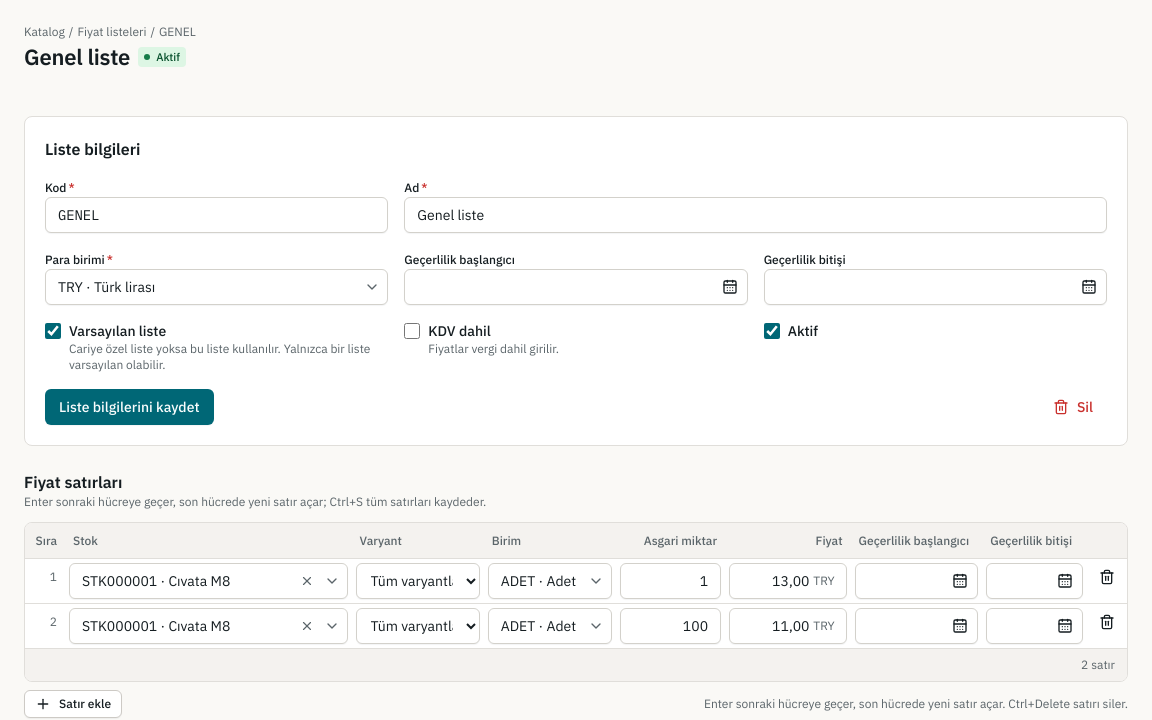
Test: price lists › keeps unsaved edits when the lines change elsewhere and offers an explicit reload
Replace the text in the field named "Fiyat, 1. satır" with "14": x=788, y=581 [729,563,846,599]
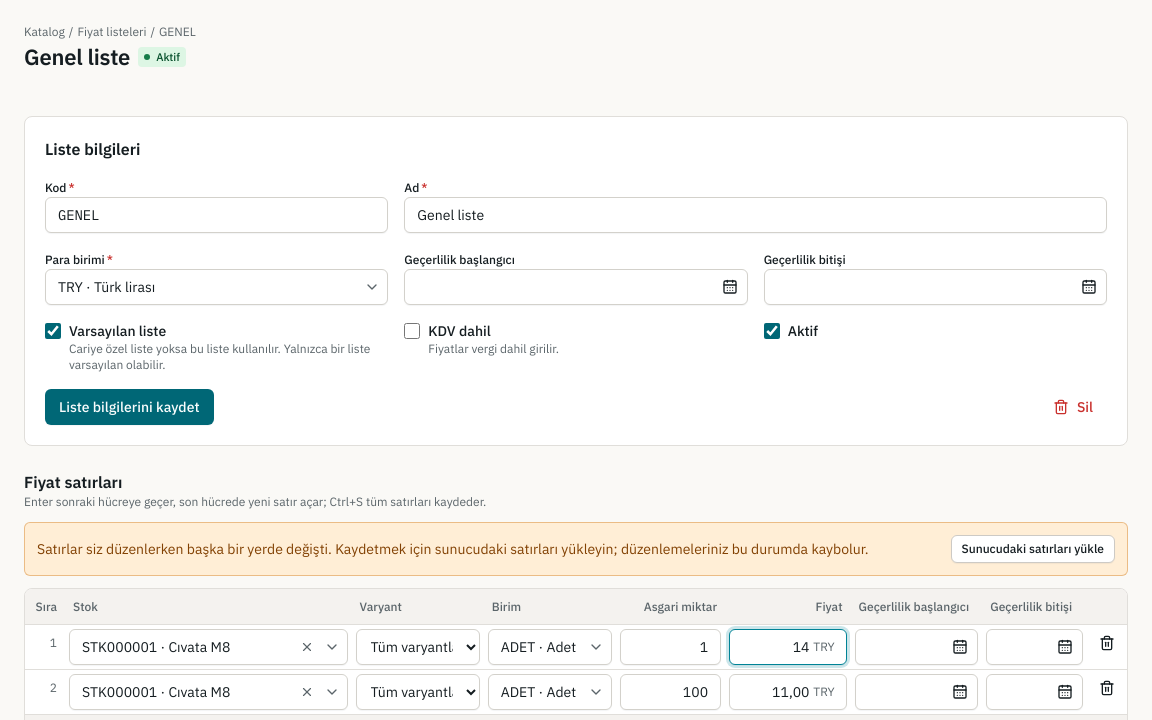
Check: the text "Satırlar siz düzenlerken başka bir yerde değişti" is shown, box [37,540,869,558]
Click the button "Sunucudaki satırları yükle": x=1033, y=549 [950,535,1115,563]
(page scrolled)
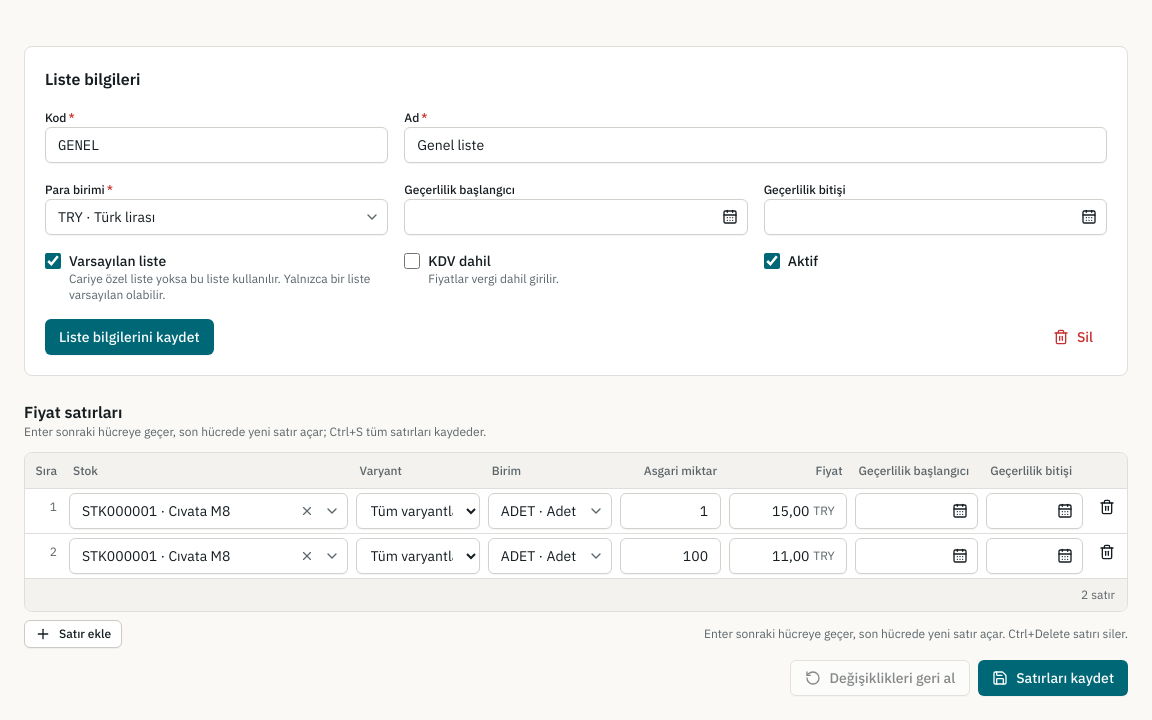
Check: the field named "Fiyat, 1. satır" holds "15,00", box [729,493,846,529]
Check: the button "Satırları kaydet" is enabled, box [978,660,1128,696]
